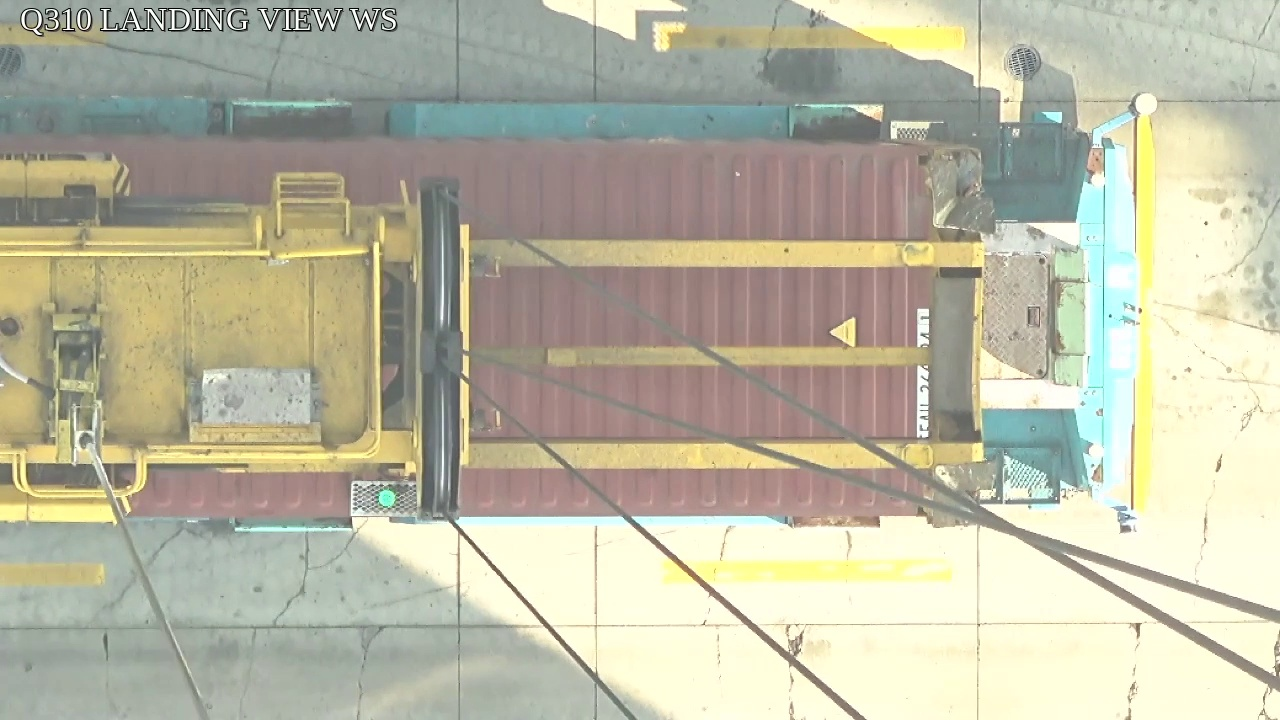right: (413, 175, 468, 522)
